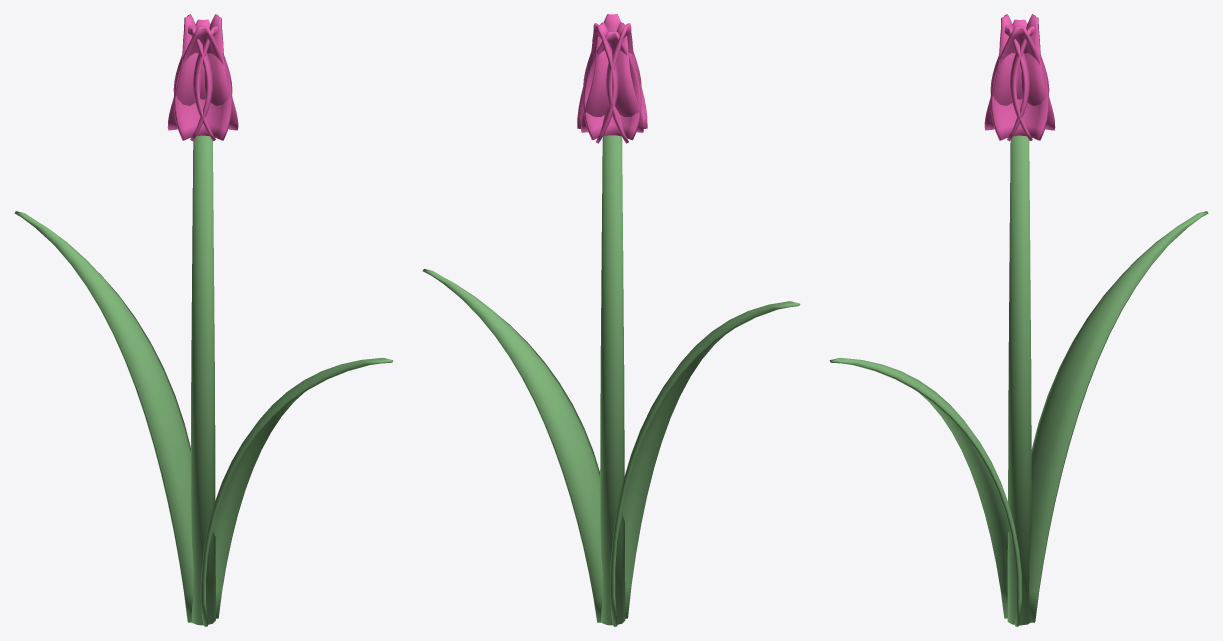
Rendered from SpotlightTulip.fbx.
3 views of the same model, side by side, from view 1: azimuth 30°, elevation 25°; view 2: azimuth 210°, elevation 25°; view 3: azimuth 270°, elevation 25° (orthographic).
Visible parts, largest first — view 1: Stem, Leaf_0, Leaf_1, Petal_4, Petal_0, Petal_2, Petal_3, Petal_5; view 2: Stem, Leaf_1, Leaf_0, Petal_1, Petal_5, Petal_3, Petal_2, Petal_0; view 3: Stem, Leaf_0, Leaf_1, Petal_0, Petal_4, Petal_2, Petal_1, Petal_5.
Boxes of the visible parts, x1=… form: Stem: x1=190, y1=135, x2=215, y2=625; Leaf_0: x1=14, y1=211, x2=193, y2=622; Leaf_1: x1=200, y1=357, x2=393, y2=626; Petal_4: x1=173, y1=26, x2=232, y2=140; Petal_0: x1=204, y1=14, x2=238, y2=130; Petal_2: x1=167, y1=14, x2=201, y2=130; Petal_3: x1=188, y1=26, x2=212, y2=141; Petal_5: x1=193, y1=25, x2=218, y2=141; Stem: x1=600, y1=135, x2=625, y2=625; Leaf_1: x1=422, y1=269, x2=602, y2=622; Leaf_0: x1=610, y1=301, x2=800, y2=626; Petal_1: x1=583, y1=31, x2=641, y2=140; Petal_5: x1=581, y1=22, x2=609, y2=132; Petal_3: x1=615, y1=22, x2=643, y2=132; Petal_2: x1=606, y1=23, x2=647, y2=143; Petal_0: x1=577, y1=23, x2=618, y2=143; Stem: x1=1007, y1=135, x2=1031, y2=625; Leaf_0: x1=1029, y1=211, x2=1208, y2=622; Leaf_1: x1=829, y1=357, x2=1021, y2=626; Petal_0: x1=990, y1=26, x2=1049, y2=140; Petal_4: x1=984, y1=14, x2=1018, y2=130; Petal_2: x1=1021, y1=14, x2=1055, y2=130; Petal_1: x1=1010, y1=26, x2=1034, y2=141; Petal_5: x1=1004, y1=25, x2=1029, y2=141.
Bounding box in the file's own units: 0.2034 × 0.6108 × 0.3497.
